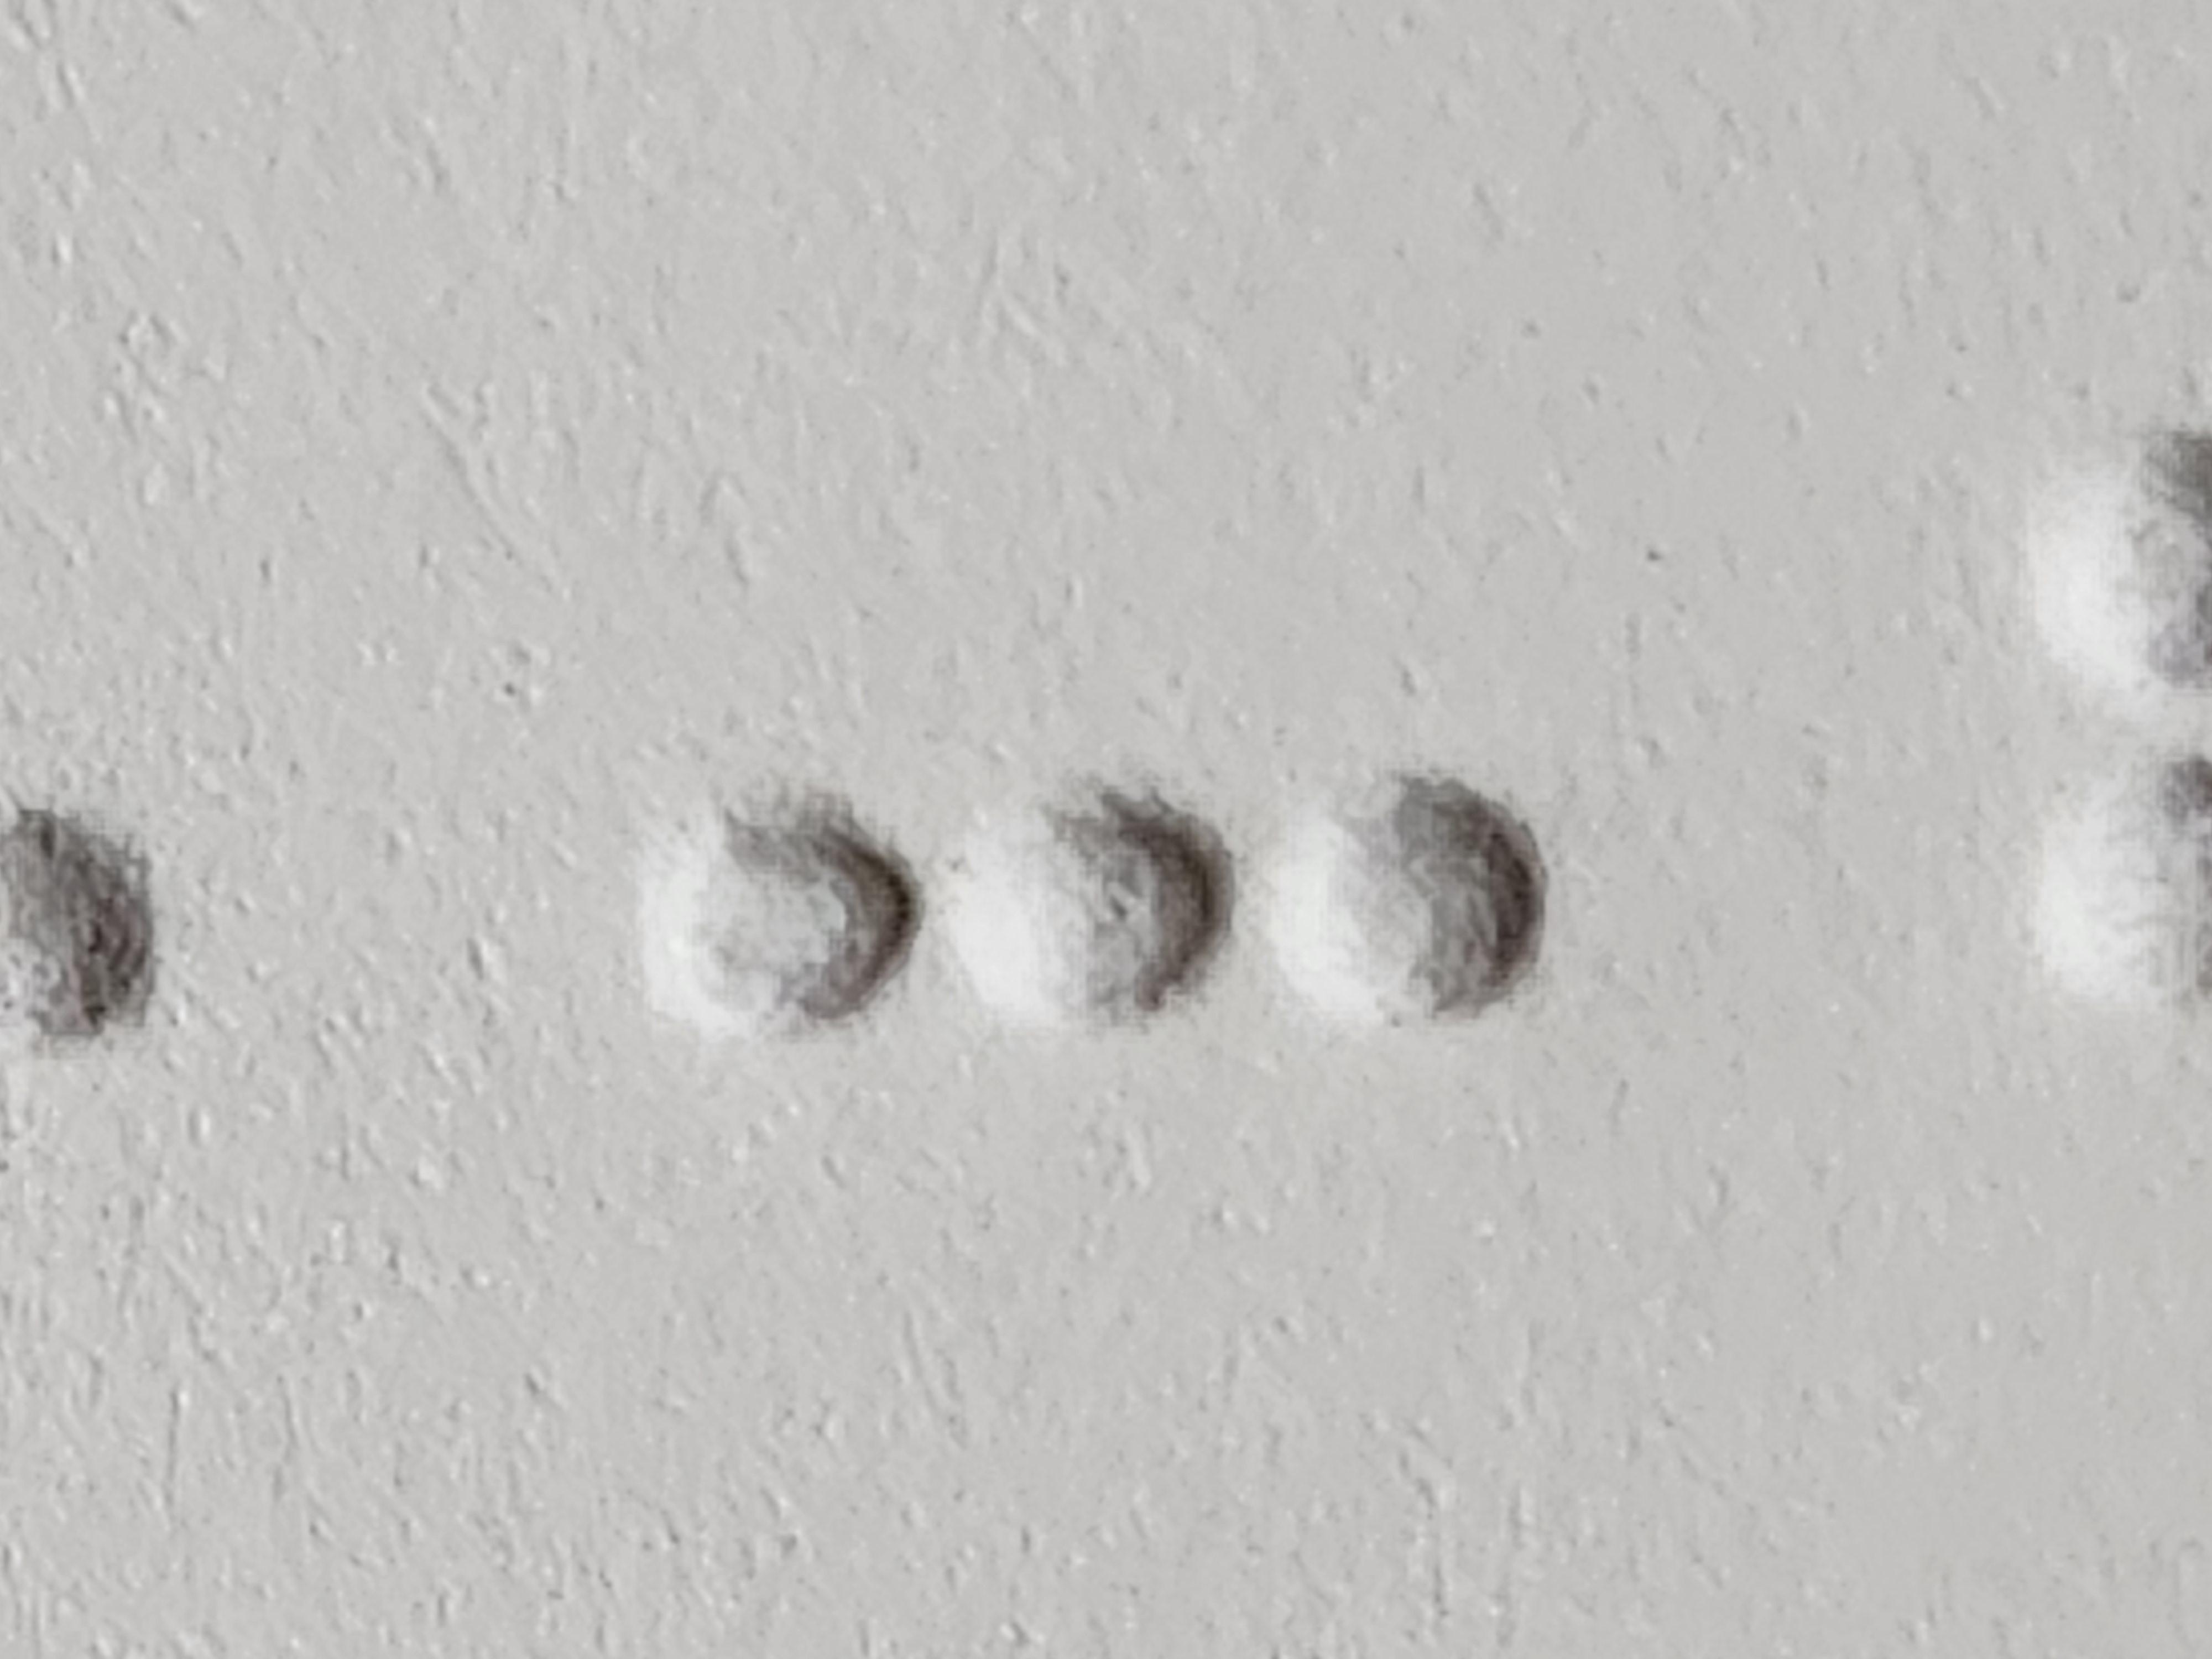one_cell_alphabet_lamang: (805, 474, 1629, 1168)
